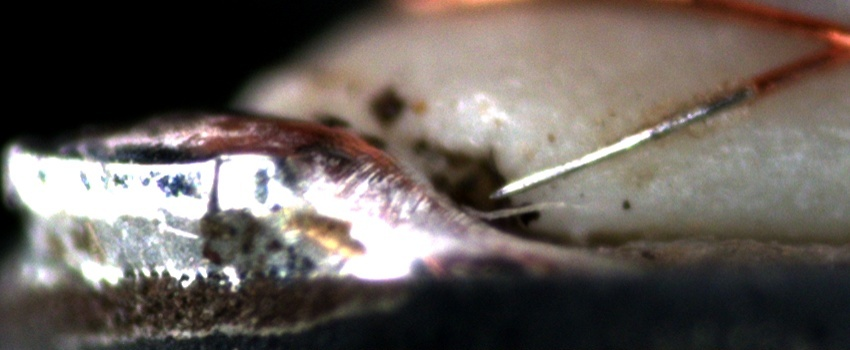DL: (675, 105, 850, 169)
TS: (487, 86, 751, 202)
